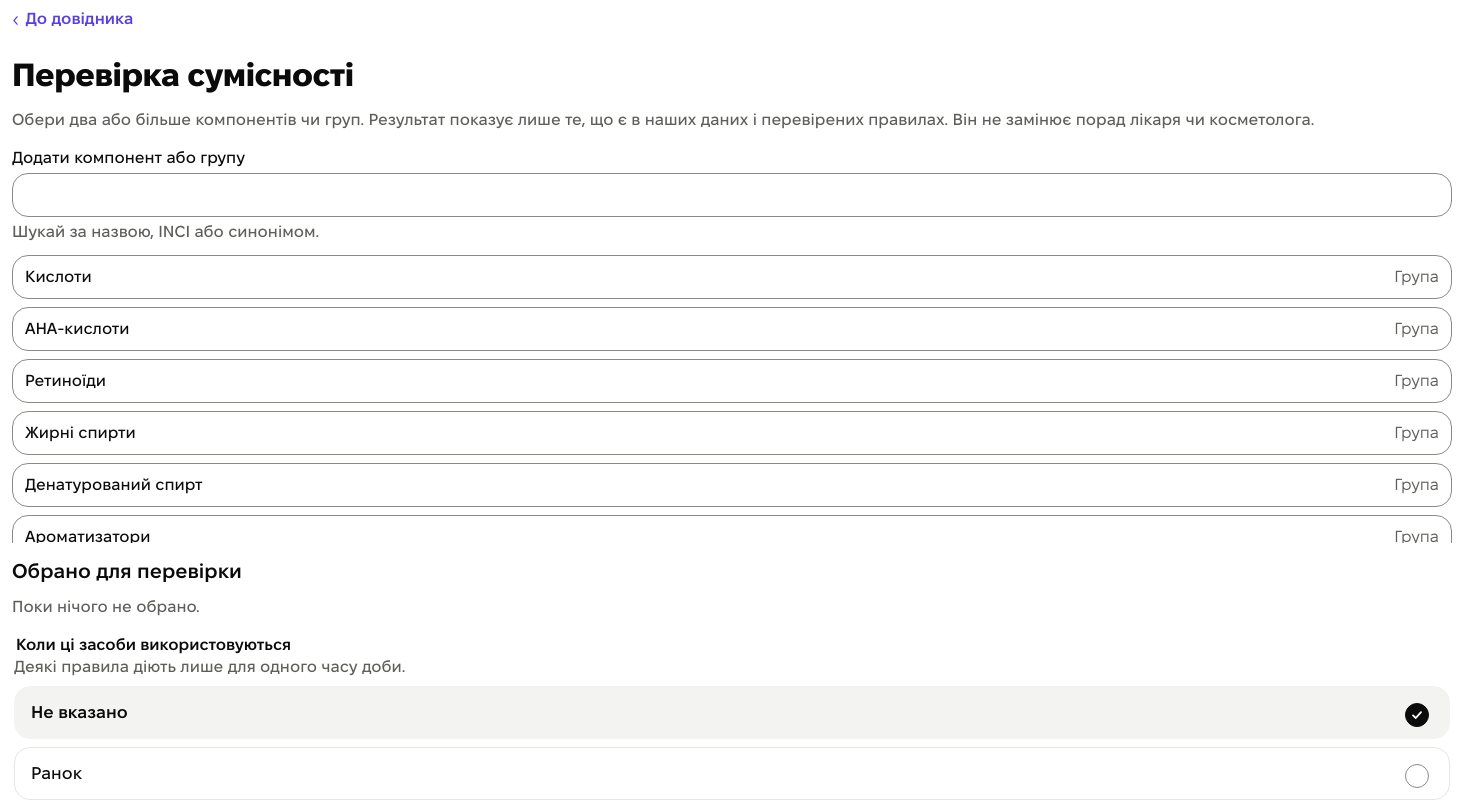
it: CompatCheckerPage: the screen › can pick a group as well as an ingredient
Step 1. Click the button "Ретиноїди Група" → [66, 380], box [12,359,1452,403]
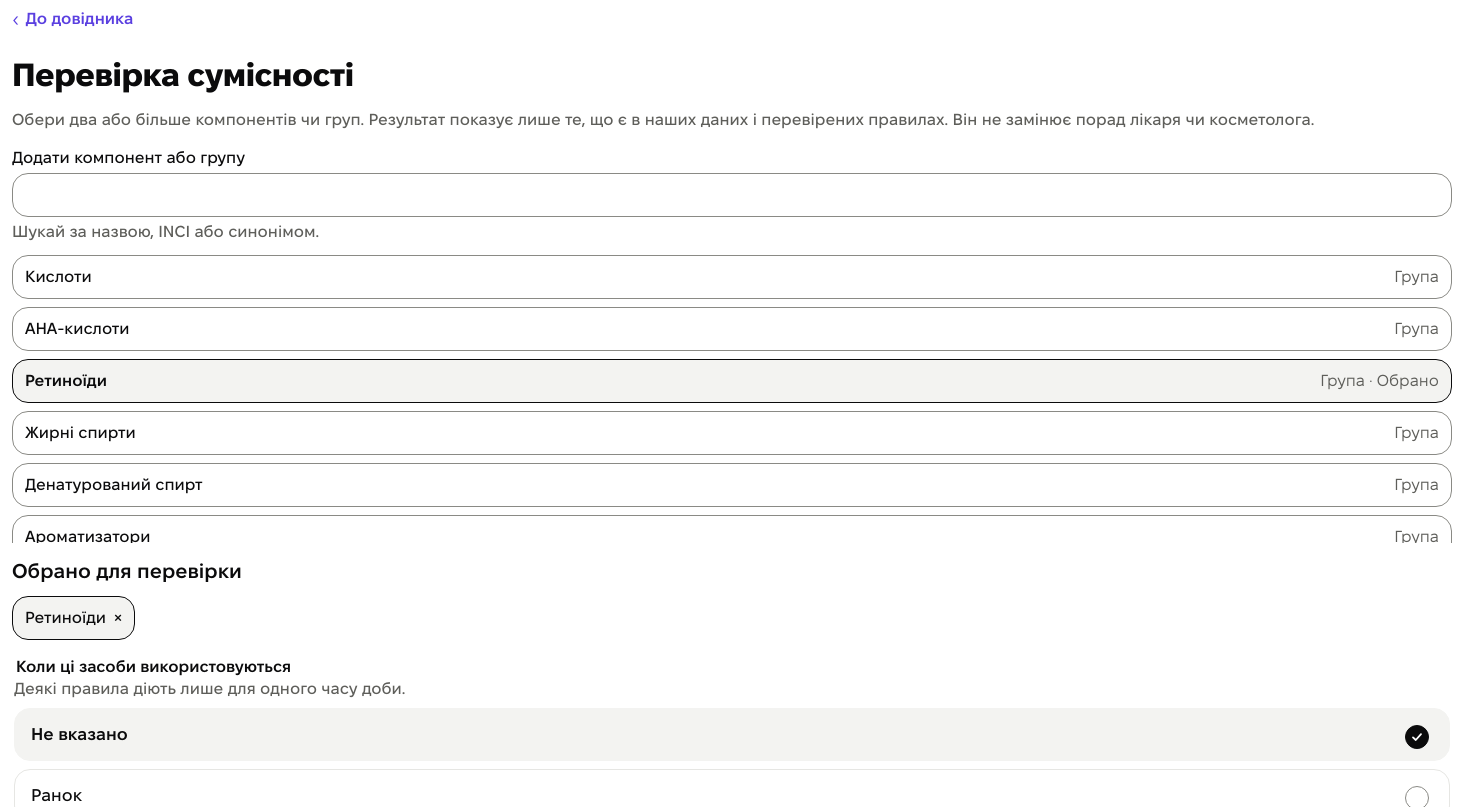
Step 2. Click the button "AHA-кислоти Група" → [77, 328], box [12,307,1452,351]
(page scrolled)
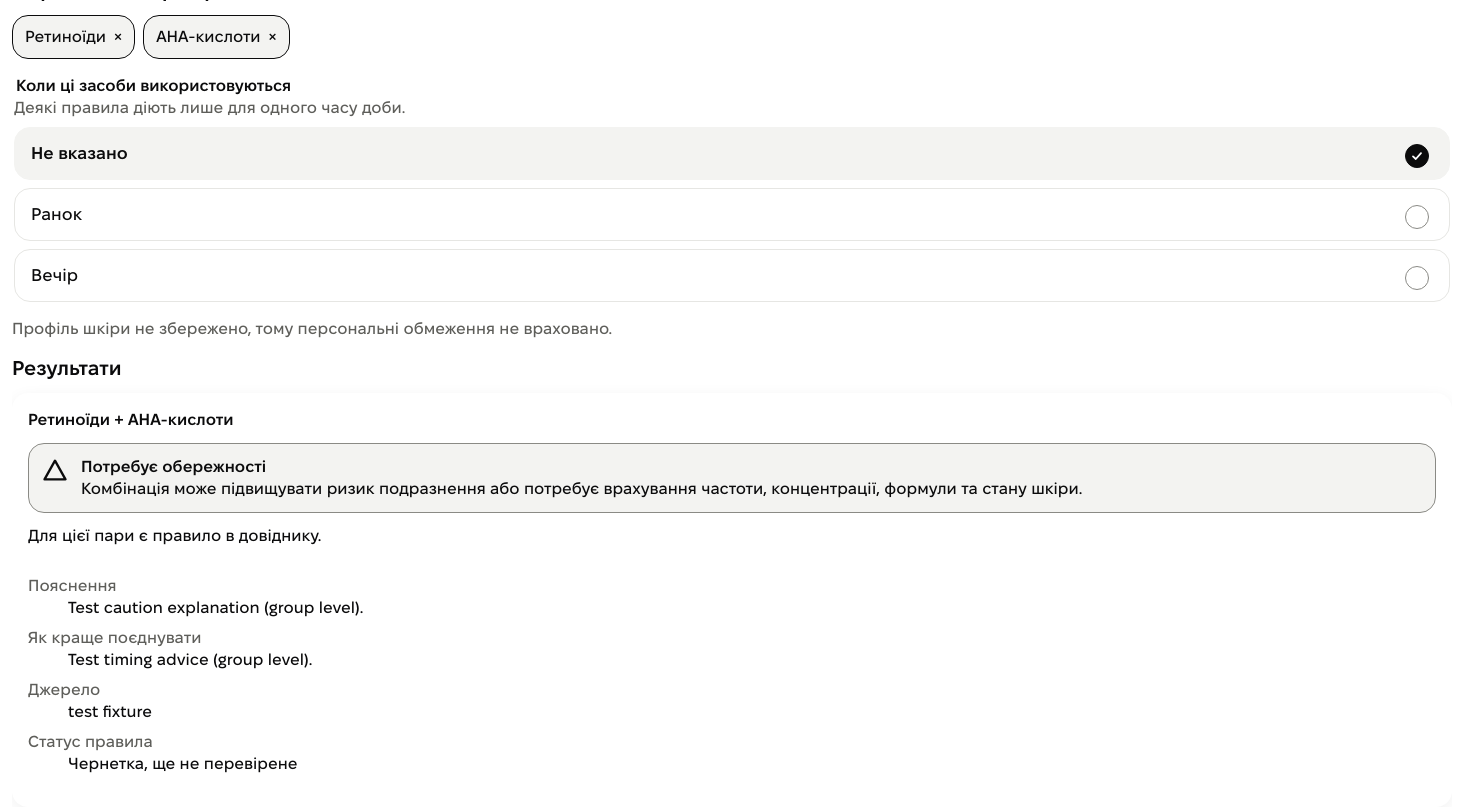
Expected: the text "Потребує обережності" is shown, [81,458,266,475]
